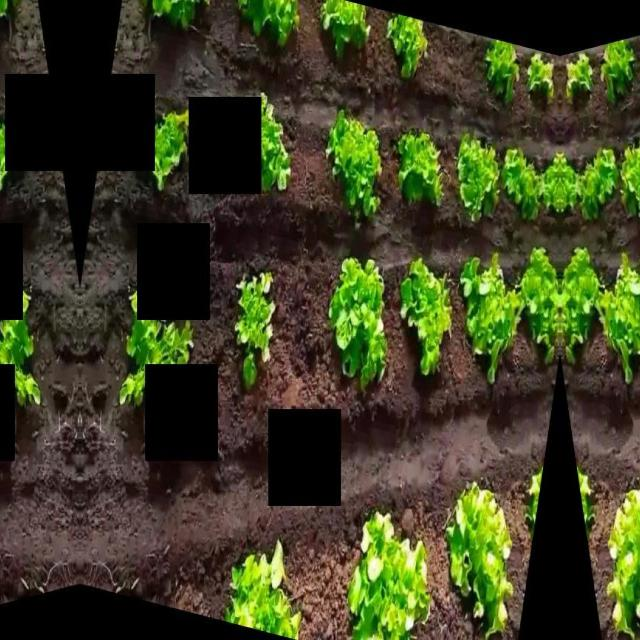healthy: (348, 508, 430, 640), (449, 481, 513, 635), (118, 293, 194, 405), (461, 250, 522, 382), (226, 536, 302, 640), (329, 254, 387, 386), (396, 256, 452, 382), (324, 107, 382, 221), (598, 250, 640, 382), (607, 481, 640, 635), (520, 246, 560, 362), (560, 246, 600, 362), (0, 293, 41, 405), (234, 268, 276, 372), (457, 129, 501, 225), (394, 128, 444, 208), (382, 12, 432, 84), (257, 91, 291, 195), (501, 142, 543, 222), (577, 142, 619, 222), (316, 0, 370, 58), (234, 0, 302, 44), (148, 111, 186, 187), (482, 39, 522, 107), (598, 39, 638, 107), (619, 129, 640, 225), (148, 0, 214, 30), (526, 52, 558, 106), (562, 52, 594, 106), (542, 150, 560, 220), (560, 150, 578, 220), (0, 111, 12, 187), (0, 0, 12, 30)
